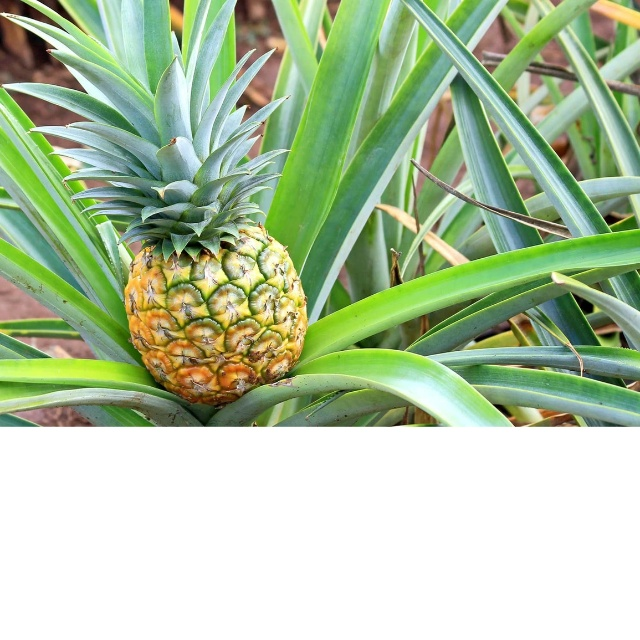thom: (97, 181, 320, 399)
